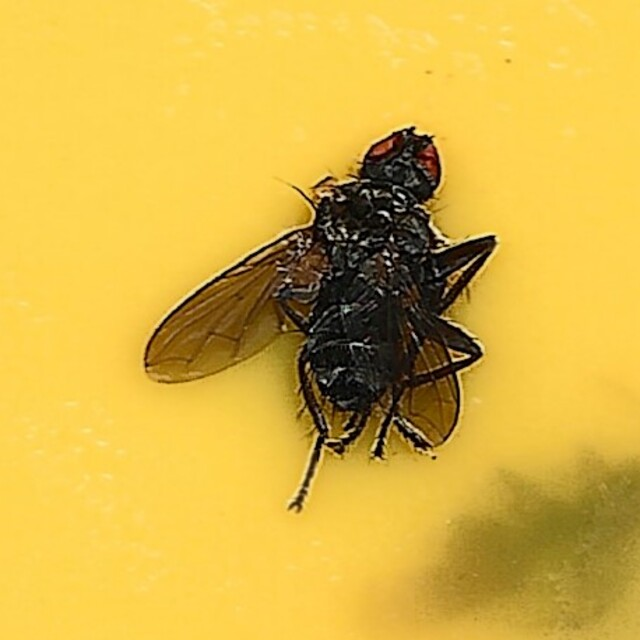Brachycera: (140, 126, 500, 514)
